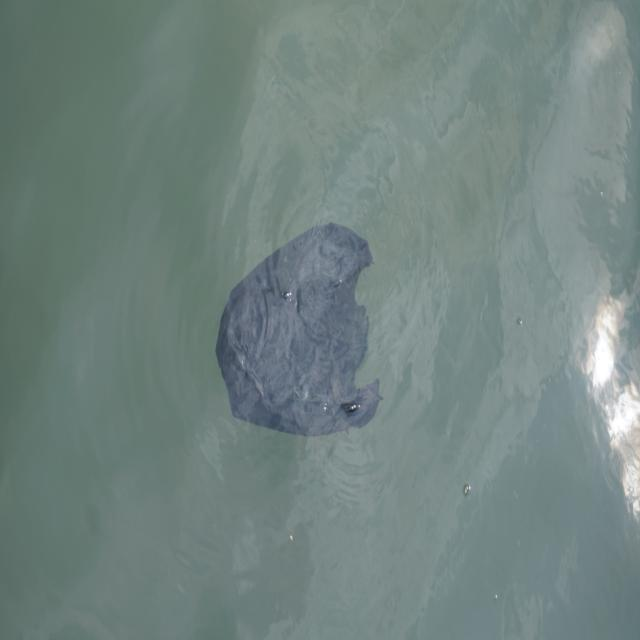Kantong Plastik: (213, 220, 384, 447)
